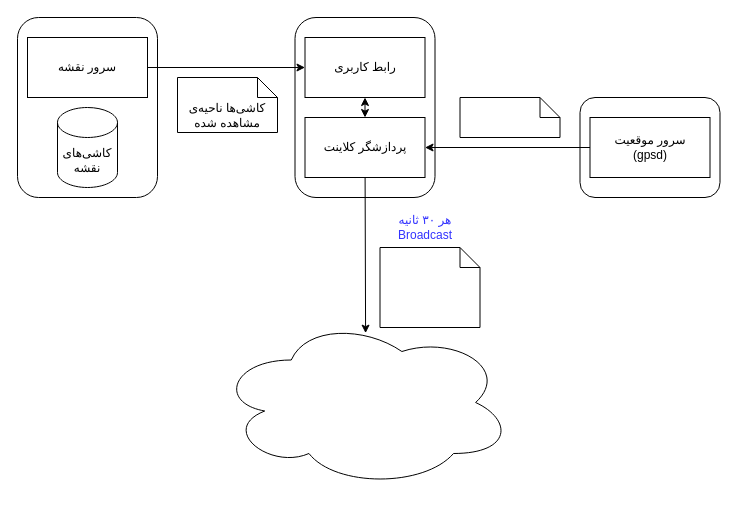
The diagram is 738 pixels wide and 505 high, and some of its shapes have lost their labels. Here are the shapes that lost their labels. From the top down, the centre of each, then its label:
point 509,117: اطلاعات موقعیتی
point 429,287: اطلاعات موقعیتی کاربر و نقاط مهم در قالب پیام CoT
point 364,402: شبکه‌
